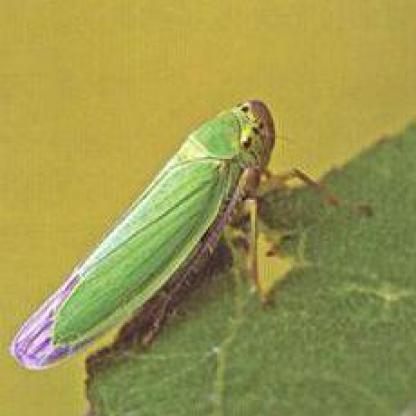Green-Leafhopper: (6, 97, 346, 376)
